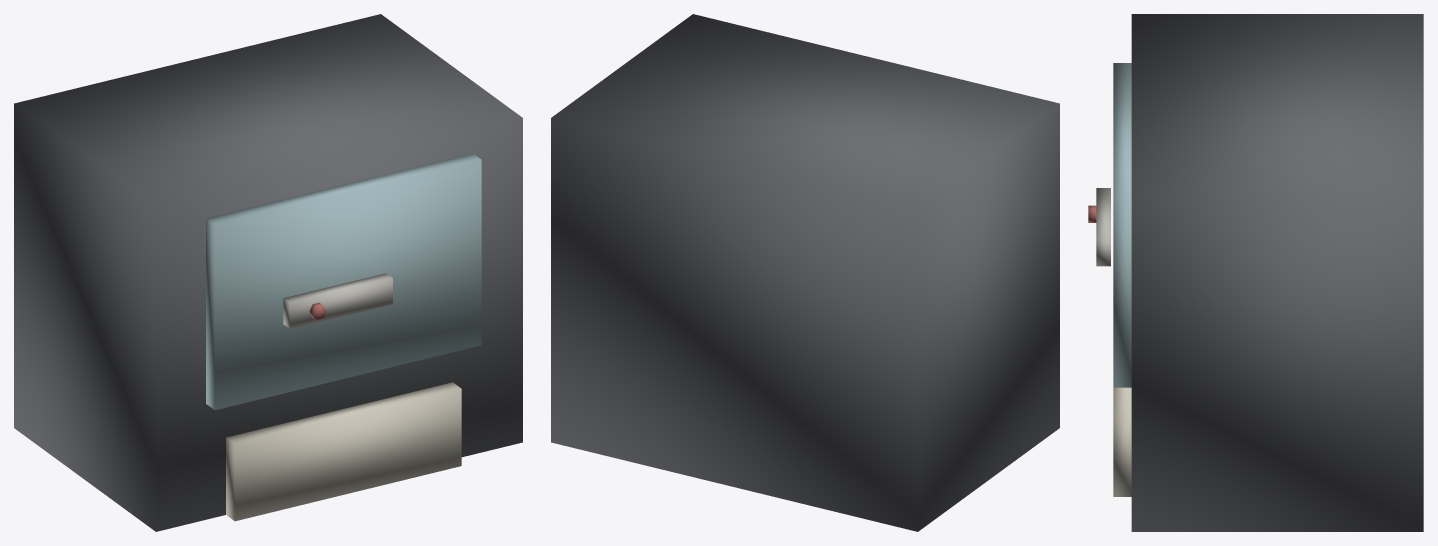
The model's file is flat_monitor__compact.glb.
3 renders of one model, left to right at view 1: azimuth 30°, elevation 25°; view 2: azimuth 150°, elevation 25°; view 3: azimuth 270°, elevation 25°, orthographic. The views are drawn at different scales.
Parts seen in each view (by area): view 1: world; view 2: world; view 3: world.
Boxes of the visible parts, left/top/right/bottom form: world: left=14, top=14, right=522, bottom=531; world: left=551, top=14, right=1059, bottom=531; world: left=1088, top=14, right=1423, bottom=531.
Bounding box in the file's own units: 0.462 × 0.3906 × 0.3556.
